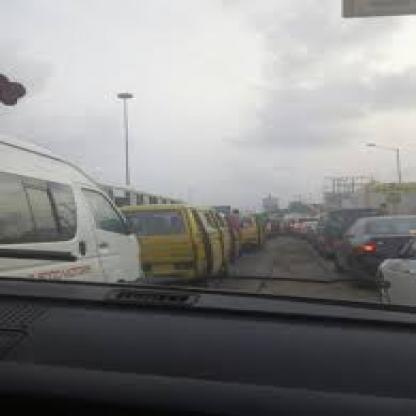car: (0, 124, 154, 310), (112, 174, 244, 279), (326, 204, 416, 284)
